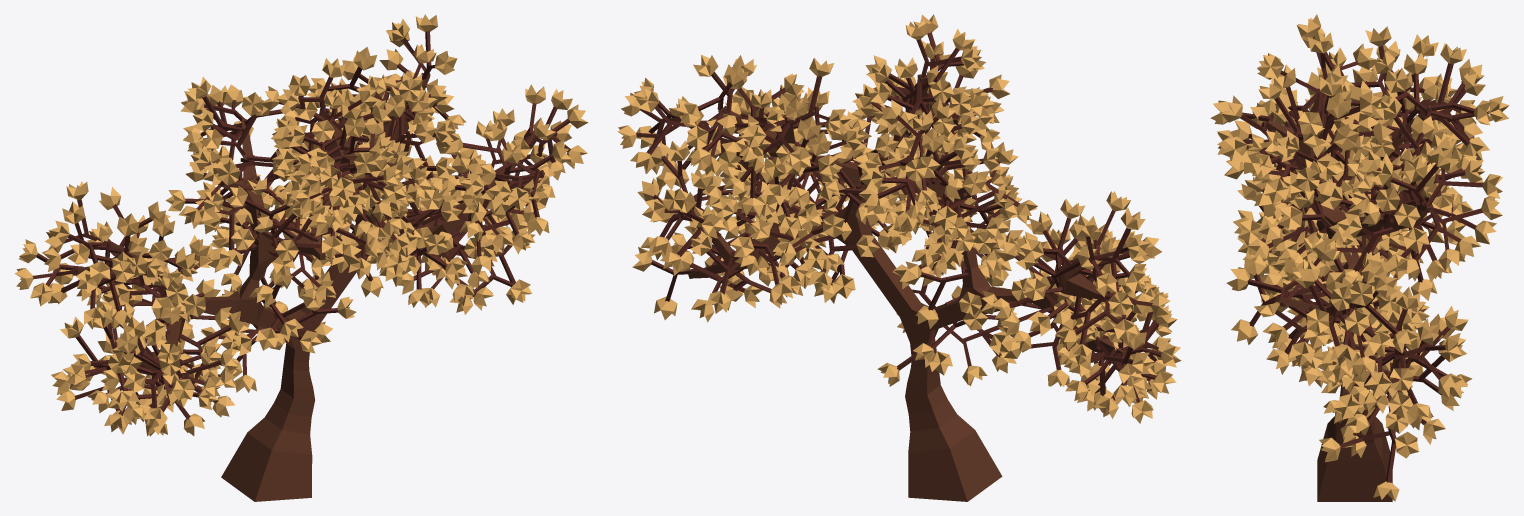
The model's file is tree.fbx.
3 views of the same model, side by side, from view 1: azimuth 30°, elevation 25°; view 2: azimuth 150°, elevation 25°; view 3: azimuth 270°, elevation 25° (orthographic). The views are drawn at different scales.
Visible parts, largest first — view 1: Cube.014, Cube.014|Icosphere|Dupli|249, Cube.014|Icosphere|Dupli|173, Cube.014|Icosphere|Dupli|219, Cube.014|Icosphere|Dupli|194, Cube.014|Icosphere|Dupli|170, Cube.014|Icosphere|Dupli|251, Cube.014|Icosphere|Dupli|216, Cube.014|Icosphere|Dupli|236, Cube.014|Icosphere|Dupli|32, Cube.014|Icosphere|Dupli|45, Cube.014|Icosphere|Dupli|176 (+60 smaller); view 2: Cube.014, Cube.014|Icosphere|Dupli|, Cube.014|Icosphere|Dupli|43, Cube.014|Icosphere|Dupli|198, Cube.014|Icosphere|Dupli|10, Cube.014|Icosphere|Dupli|246, Cube.014|Icosphere|Dupli|46, Cube.014|Icosphere|Dupli|250, Cube.014|Icosphere|Dupli|182, Cube.014|Icosphere|Dupli|173, Cube.014|Icosphere|Dupli|237, Cube.014|Icosphere|Dupli|188 (+59 smaller); view 3: Cube.014, Cube.014|Icosphere|Dupli|170, Cube.014|Icosphere|Dupli|182, Cube.014|Icosphere|Dupli|, Cube.014|Icosphere|Dupli|188, Cube.014|Icosphere|Dupli|168, Cube.014|Icosphere|Dupli|240, Cube.014|Icosphere|Dupli|171, Cube.014|Icosphere|Dupli|219, Cube.014|Icosphere|Dupli|46, Cube.014|Icosphere|Dupli|55, Cube.014|Icosphere|Dupli|230 (+87 smaller).
Part boxes in pixels (bbox=[...]): Cube.014: bbox=[72, 74, 544, 501]; Cube.014|Icosphere|Dupli|249: bbox=[49, 220, 110, 284]; Cube.014|Icosphere|Dupli|173: bbox=[276, 58, 345, 111]; Cube.014|Icosphere|Dupli|219: bbox=[488, 170, 549, 235]; Cube.014|Icosphere|Dupli|194: bbox=[19, 239, 83, 306]; Cube.014|Icosphere|Dupli|170: bbox=[415, 14, 457, 79]; Cube.014|Icosphere|Dupli|251: bbox=[108, 213, 166, 281]; Cube.014|Icosphere|Dupli|216: bbox=[479, 163, 543, 210]; Cube.014|Icosphere|Dupli|236: bbox=[183, 77, 243, 148]; Cube.014|Icosphere|Dupli|32: bbox=[408, 234, 447, 307]; Cube.014|Icosphere|Dupli|45: bbox=[173, 347, 239, 400]; Cube.014|Icosphere|Dupli|176: bbox=[311, 83, 381, 142]; Cube.014: bbox=[678, 75, 1126, 501]; Cube.014|Icosphere|Dupli|: bbox=[789, 58, 850, 131]; Cube.014|Icosphere|Dupli|43: bbox=[690, 231, 740, 313]; Cube.014|Icosphere|Dupli|198: bbox=[1056, 292, 1137, 350]; Cube.014|Icosphere|Dupli|10: bbox=[903, 261, 968, 328]; Cube.014|Icosphere|Dupli|246: bbox=[1097, 208, 1149, 292]; Cube.014|Icosphere|Dupli|46: bbox=[676, 62, 748, 125]; Cube.014|Icosphere|Dupli|250: bbox=[1019, 211, 1076, 271]; Cube.014|Icosphere|Dupli|182: bbox=[630, 89, 688, 173]; Cube.014|Icosphere|Dupli|173: bbox=[905, 20, 981, 85]; Cube.014|Icosphere|Dupli|237: bbox=[880, 98, 956, 157]; Cube.014|Icosphere|Dupli|188: bbox=[632, 247, 697, 319]; Cube.014: bbox=[1265, 93, 1431, 501]; Cube.014|Icosphere|Dupli|170: bbox=[1370, 144, 1458, 212]; Cube.014|Icosphere|Dupli|182: bbox=[1344, 270, 1417, 353]; Cube.014|Icosphere|Dupli|: bbox=[1375, 95, 1434, 156]; Cube.014|Icosphere|Dupli|188: bbox=[1373, 428, 1418, 501]; Cube.014|Icosphere|Dupli|168: bbox=[1421, 196, 1502, 270]; Cube.014|Icosphere|Dupli|240: bbox=[1422, 59, 1494, 125]; Cube.014|Icosphere|Dupli|171: bbox=[1396, 201, 1480, 281]; Cube.014|Icosphere|Dupli|219: bbox=[1231, 254, 1283, 344]; Cube.014|Icosphere|Dupli|46: bbox=[1425, 134, 1502, 207]; Cube.014|Icosphere|Dupli|55: bbox=[1337, 213, 1398, 284]; Cube.014|Icosphere|Dupli|230: bbox=[1364, 355, 1432, 424].
Size of the model in its own units: 1755 by 1338 by 756.
